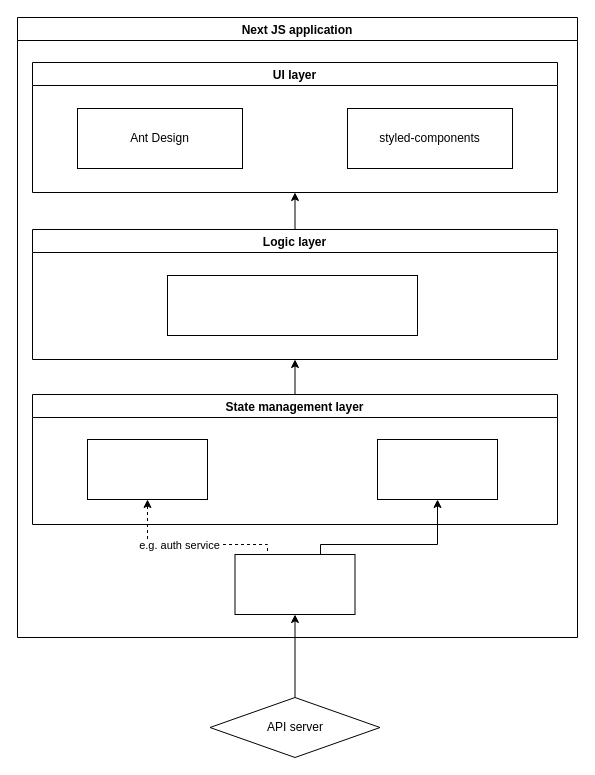
The diagram is 595 pixels wide and 775 high, and some of its shapes have lost their labels. The shapes that lost their labels are listed below. From the top down, each one's centre as x and y in pixels, then its label:
At (x=292, y=305): "Hooks".
At (x=147, y=469): "React Context API".
At (x=437, y=469): "Data Caching (SWR)".
At (x=294, y=584): "Data Fetcher".
